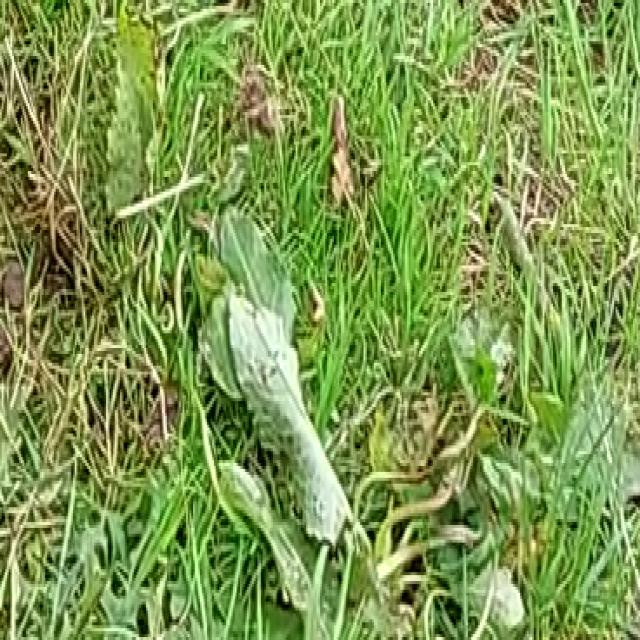organic waste: (142, 174, 436, 616)
